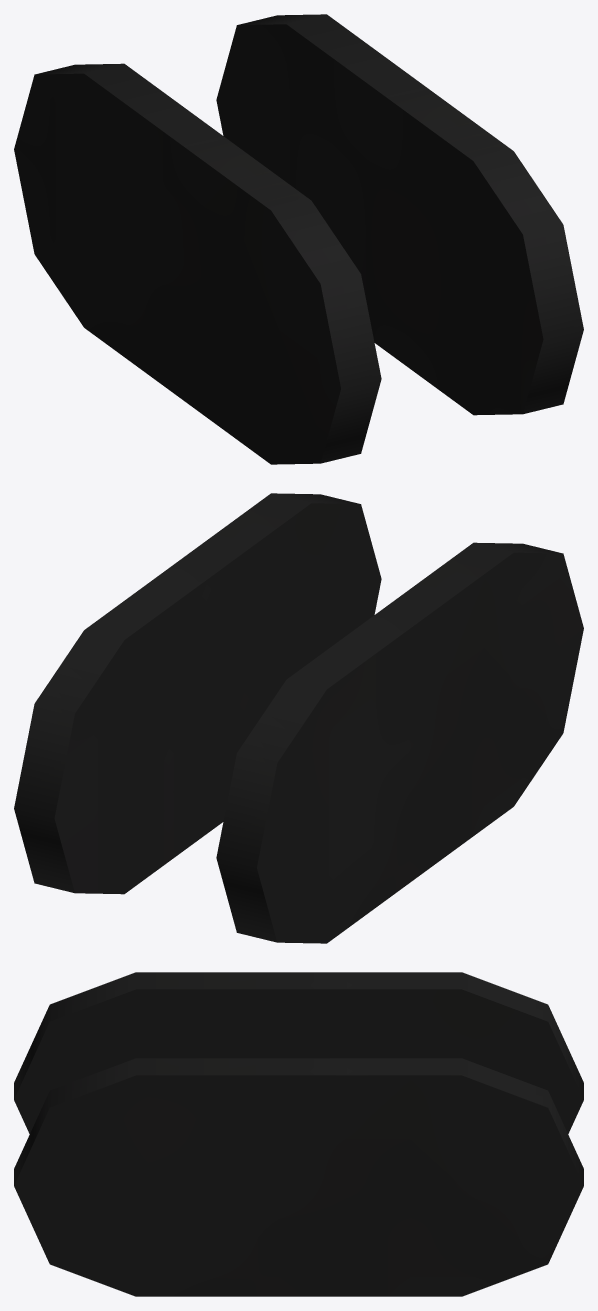
Rendered from 1f_antenna_s0_1_hinge.obj.
3 renders of one model, top to bottom at view 1: azimuth 30°, elevation 25°; view 2: azimuth 150°, elevation 25°; view 3: azimuth 270°, elevation 25°, orthographic. The views are drawn at different scales.
Visible parts, largest first — view 1: mesh1; view 2: mesh1; view 3: mesh1.
Boxes of the visible parts, x1,y1,x2,y2 form: mesh1: (14, 14, 583, 464); mesh1: (14, 493, 583, 943); mesh1: (14, 972, 583, 1296).
Bounding box in the file's own units: 0.075 × 0.075 × 0.175.
